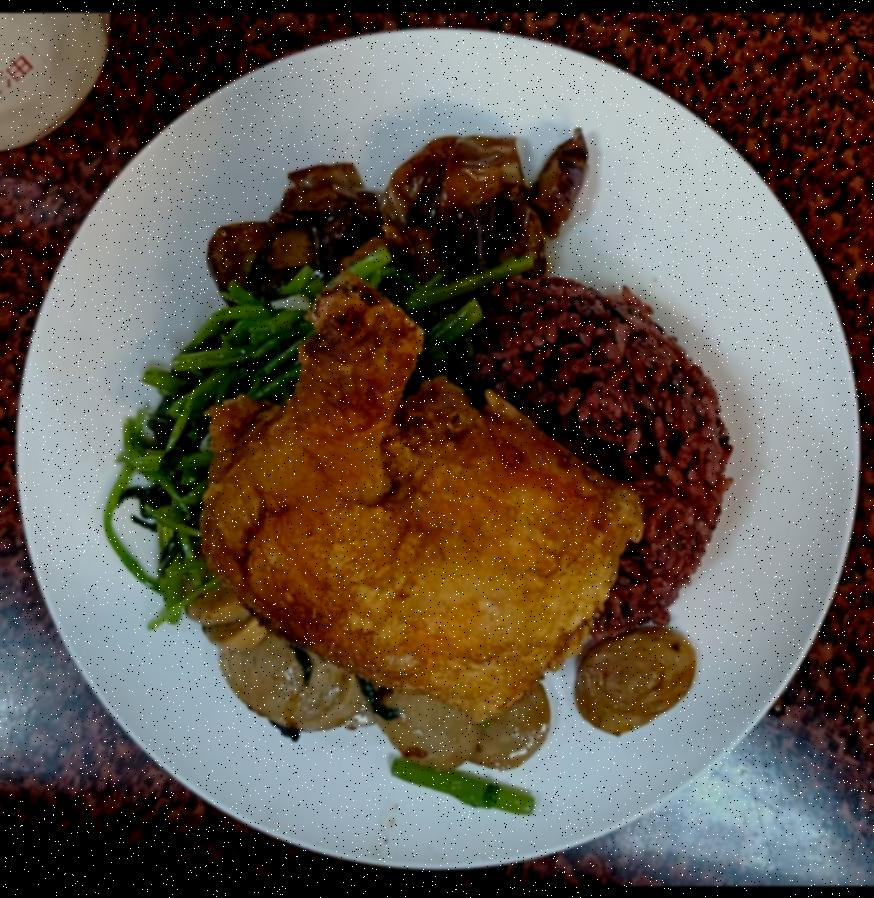big fried chicken leg: (190, 288, 644, 719)
plate: (4, 19, 868, 866)
purple rice: (440, 278, 726, 650)
side dish: (114, 258, 487, 622), (191, 587, 706, 762), (194, 114, 602, 294)
